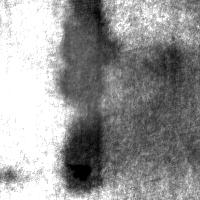patches: (0, 0, 115, 146), (86, 41, 200, 185), (56, 1, 115, 191)
